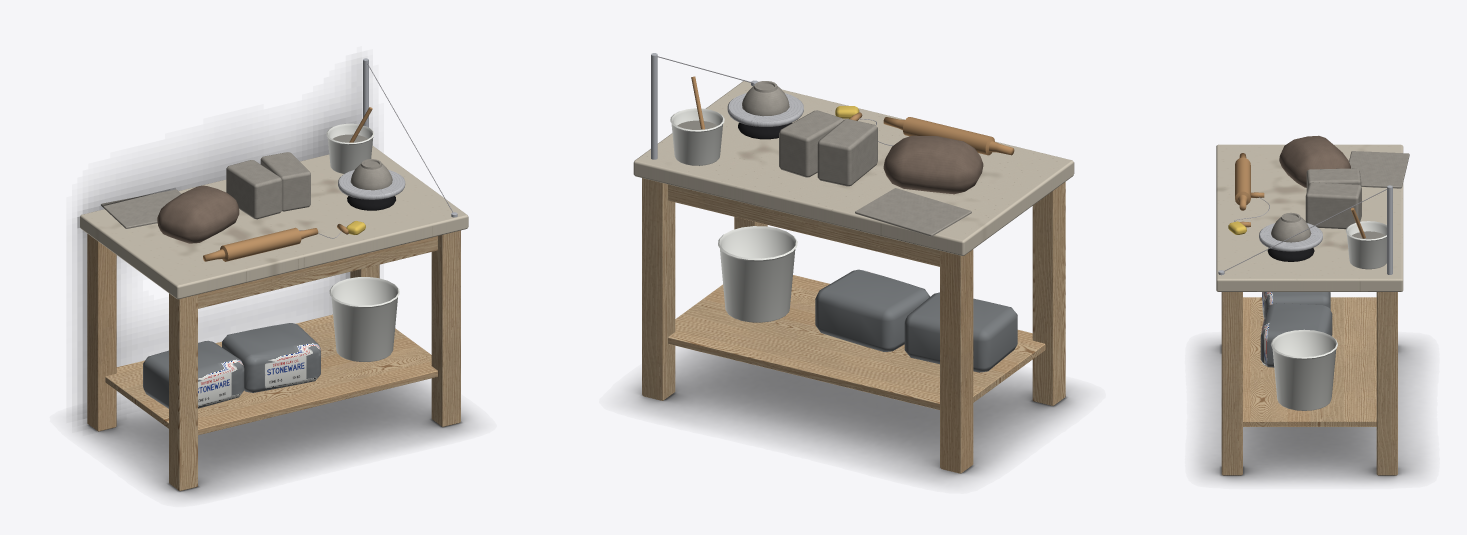
Rendered from wedging_table.glb.
3 views of the same model, side by side, from view 1: azimuth 30°, elevation 25°; view 2: azimuth 150°, elevation 25°; view 3: azimuth 270°, elevation 25° (orthographic). The views are drawn at different scales.
Parts seen in each view (by area): view 1: wedging_table_LOD0, wedging_table_Shadow; view 2: wedging_table_LOD0, wedging_table_Shadow; view 3: wedging_table_LOD0, wedging_table_Shadow.
Boxes of the visible parts, x1,y1,x2,y2 form: wedging_table_LOD0: [80, 58, 468, 490]; wedging_table_Shadow: [68, 69, 472, 497]; wedging_table_LOD0: [633, 53, 1074, 473]; wedging_table_Shadow: [628, 349, 1079, 482]; wedging_table_LOD0: [1216, 135, 1409, 475]; wedging_table_Shadow: [1199, 340, 1423, 482].
Size of what is drawn, in the model's own units: 1.52 by 1.42 by 1.04.
6 materials, 6 textured.
